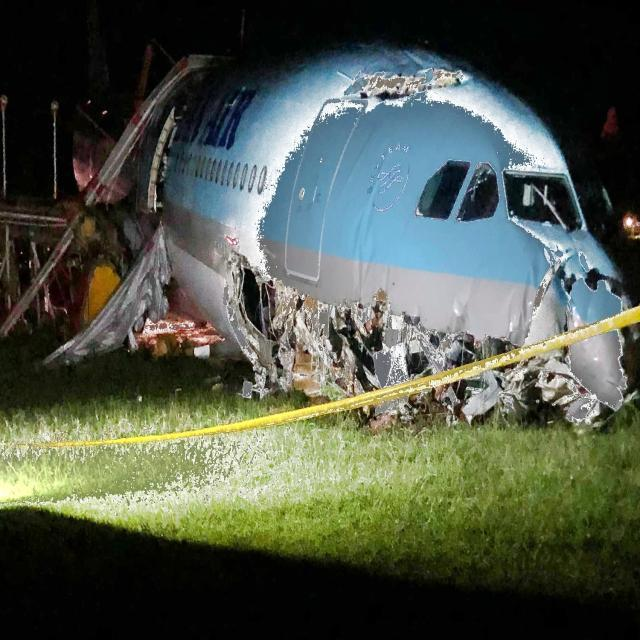crack: (333, 63, 477, 111)
